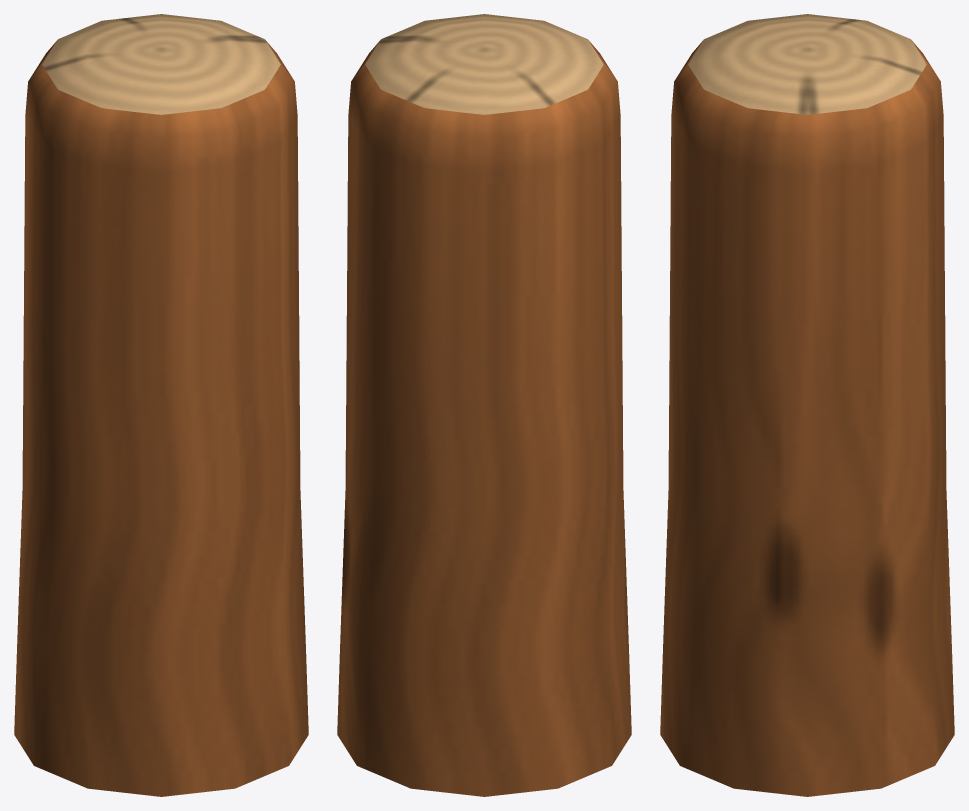
The model's file is fence-post.glb.
The picture shows the model from 3 angles, left to right: view 1: azimuth 30°, elevation 25°; view 2: azimuth 150°, elevation 25°; view 3: azimuth 270°, elevation 25°; orthographic projection.
Parts seen in each view (by area): view 1: fence-post; view 2: fence-post; view 3: fence-post.
Part boxes in pixels (x1,y1,x2,y2): fence-post: (14,14,308,796); fence-post: (337,14,631,796); fence-post: (660,14,954,796).
Size of the model in its own units: 0.2502 by 0.642 by 0.2502.
Materials: 2 (2 with a texture image).
